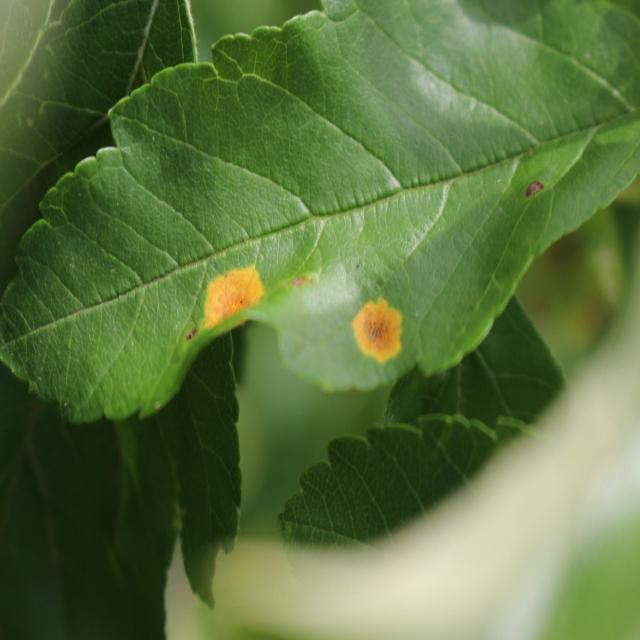Rust: (333, 285, 431, 386), (185, 254, 269, 334)
